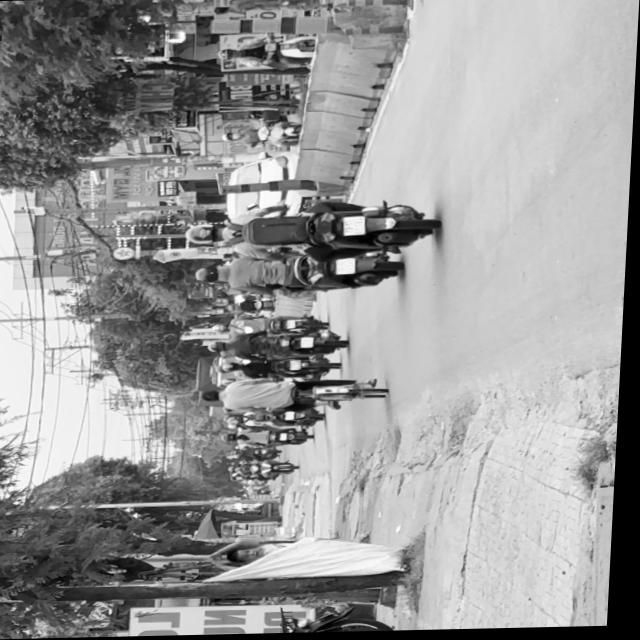helmet: (185, 223, 225, 244)
licenseplate: (182, 197, 440, 262)
nohelmet: (344, 216, 368, 236)
